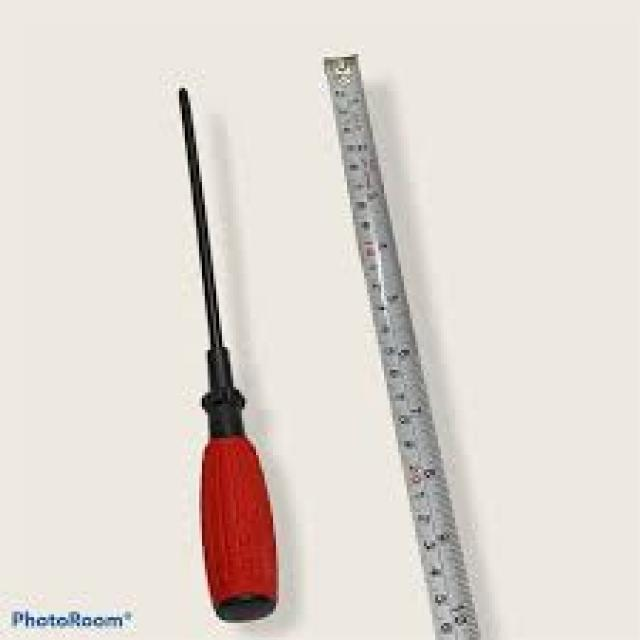screwdriver: (172, 80, 280, 628)
